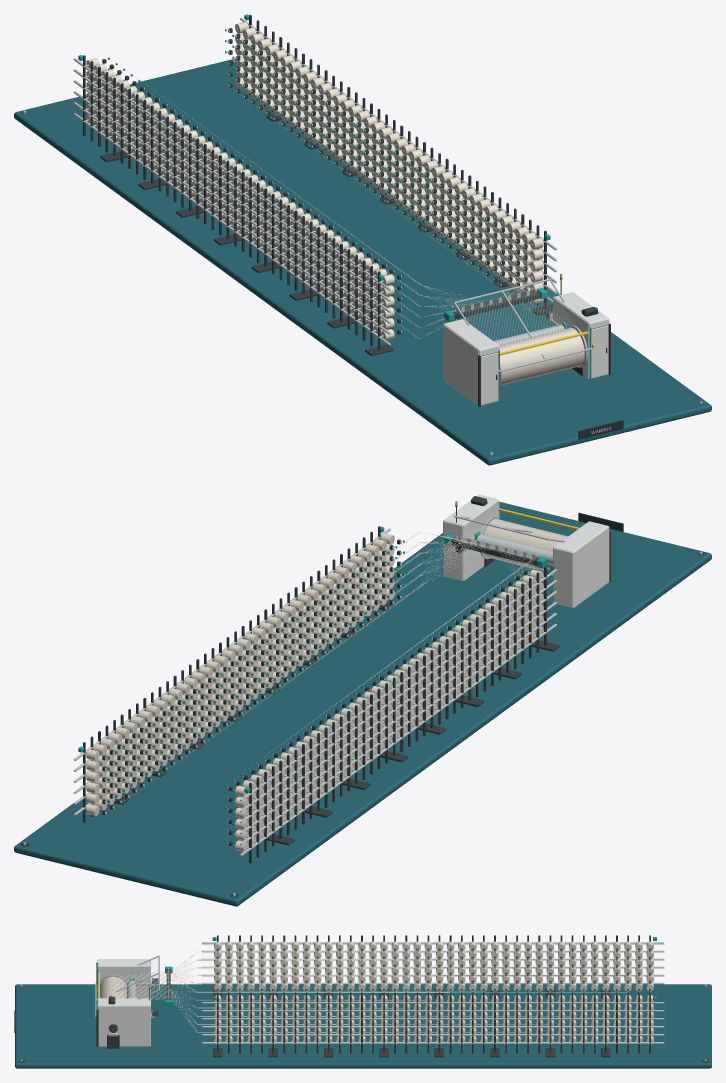
The model's file is warping.glb.
3 renders of one model, top to bottom at view 1: azimuth 30°, elevation 25°; view 2: azimuth 150°, elevation 25°; view 3: azimuth 270°, elevation 25°, orthographic. The views are drawn at different scales.
Visible parts, largest first — view 1: base_skid, working_roll, warper_side_pod_side, creel_level_rail.001, creel_level_rail.002, creel_level_rail.003, creel_level_rail, creel_level_rail.004, creel_level_rail.005, service_door, service_door.001, creel_level_rail.011 (+2 smaller); view 2: base_skid, warper_side_pod_side, working_roll, warper_side_pod_rear, creel_level_rail.005, creel_level_rail.004, creel_level_rail.001, creel_level_rail.003, warper_side_pod_side.002, creel_level_rail, creel_level_rail.002, warper_side_pod_rear.001 (+3 smaller); view 3: base_skid, warper_side_pod_side.003, creel_level_rail.009, creel_level_rail.010, creel_level_rail.011, creel_level_rail.008, creel_level_rail.007, creel_level_rail.006, warper_side_pod_side.001, creel_level_rail.005, creel_level_rail, creel_level_rail.001 (+14 smaller).
Part boxes in pixels (bbox=[...]): base_skid: bbox=[14, 58, 711, 465]; working_roll: bbox=[499, 327, 584, 385]; warper_side_pod_side: bbox=[443, 324, 478, 405]; creel_level_rail.001: bbox=[73, 102, 390, 334]; creel_level_rail.002: bbox=[73, 91, 390, 323]; creel_level_rail.003: bbox=[73, 80, 390, 312]; creel_level_rail: bbox=[73, 113, 390, 345]; creel_level_rail.004: bbox=[73, 69, 390, 301]; creel_level_rail.005: bbox=[73, 58, 390, 290]; service_door: bbox=[481, 352, 498, 404]; service_door.001: bbox=[591, 325, 608, 377]; creel_level_rail.011: bbox=[240, 17, 556, 250]; base_skid: bbox=[14, 502, 711, 906]; warper_side_pod_side: bbox=[573, 526, 609, 607]; working_roll: bbox=[484, 519, 567, 570]; warper_side_pod_rear: bbox=[553, 548, 573, 607]; creel_level_rail.005: bbox=[240, 569, 556, 801]; creel_level_rail.004: bbox=[240, 580, 556, 812]; creel_level_rail.001: bbox=[240, 613, 556, 845]; creel_level_rail.003: bbox=[240, 591, 556, 823]; warper_side_pod_side.002: bbox=[463, 500, 499, 581]; creel_level_rail: bbox=[240, 623, 556, 856]; creel_level_rail.002: bbox=[240, 602, 556, 834]; warper_side_pod_rear.001: bbox=[443, 521, 463, 581]; base_skid: bbox=[15, 984, 711, 1068]; warper_side_pod_side.003: bbox=[98, 1005, 150, 1046]; creel_level_rail.009: bbox=[202, 1018, 664, 1019]; creel_level_rail.010: bbox=[202, 1010, 664, 1011]; creel_level_rail.011: bbox=[202, 1002, 664, 1003]; creel_level_rail.008: bbox=[202, 1026, 664, 1027]; creel_level_rail.007: bbox=[202, 1034, 664, 1035]; creel_level_rail.006: bbox=[202, 1042, 664, 1043]; warper_side_pod_side.001: bbox=[98, 966, 150, 998]; creel_level_rail.005: bbox=[202, 942, 664, 944]; creel_level_rail: bbox=[202, 982, 664, 984]; creel_level_rail.001: bbox=[202, 974, 664, 976].
Size of the model in its own units: 6 by 2.22 by 22.04.
